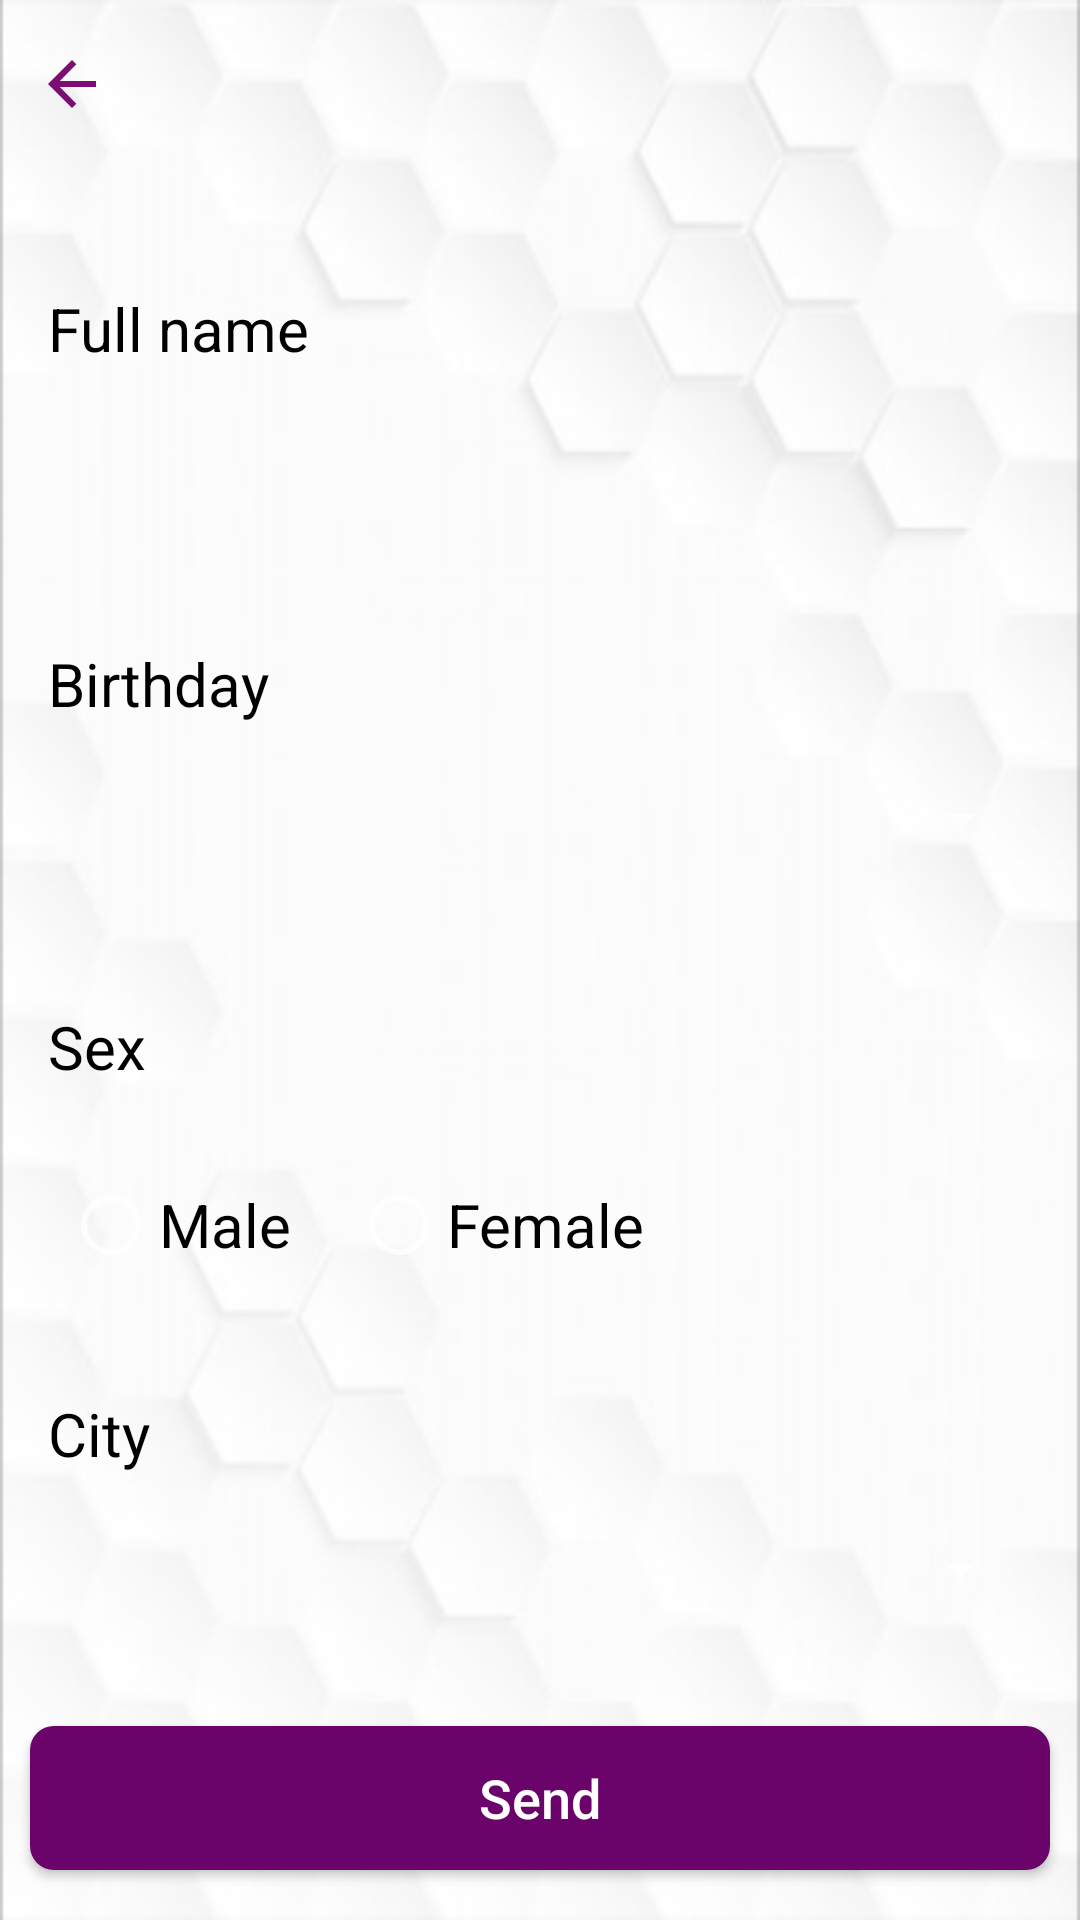

Locate icon controls on the screen. Image size 1080 × 1920, boxes as box=[x1, y1, x2, y2].
back: box=[48, 60, 96, 108]
